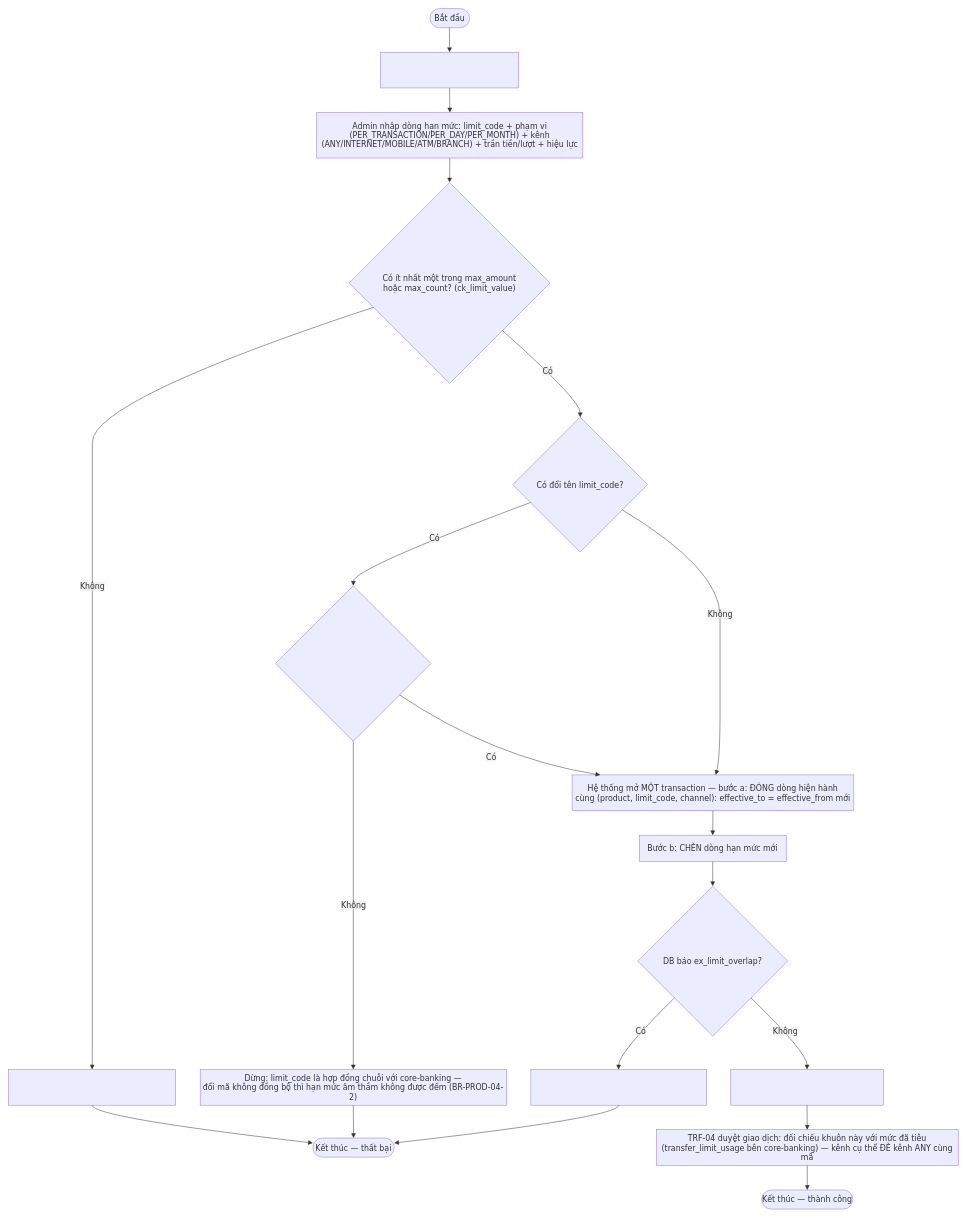
Some shapes in this 967 by 1218 pixel diagram are drawn without their labels. Here are the shapes that lost their labels. From the top down, the centre of each, then its label:
At point (449, 70): "Admin chọn sản phẩm, xem khuôn hạn mức hiện hành".
At point (353, 663): "Đã có kế hoạch đồng bộ hai phía với core-banking?".
At point (92, 1087): "Hệ thống từ chối: dòng hạn mức rỗng, không có trần nào để áp".
At point (618, 1087): "Hệ thống rollback, trả lỗi chồng hiệu lực cùng (product, limit_code, channel)".
At point (806, 1087): "Hệ thống commit và ghi audit — khuôn mới tự hiệu lực từ ngày đặt".
